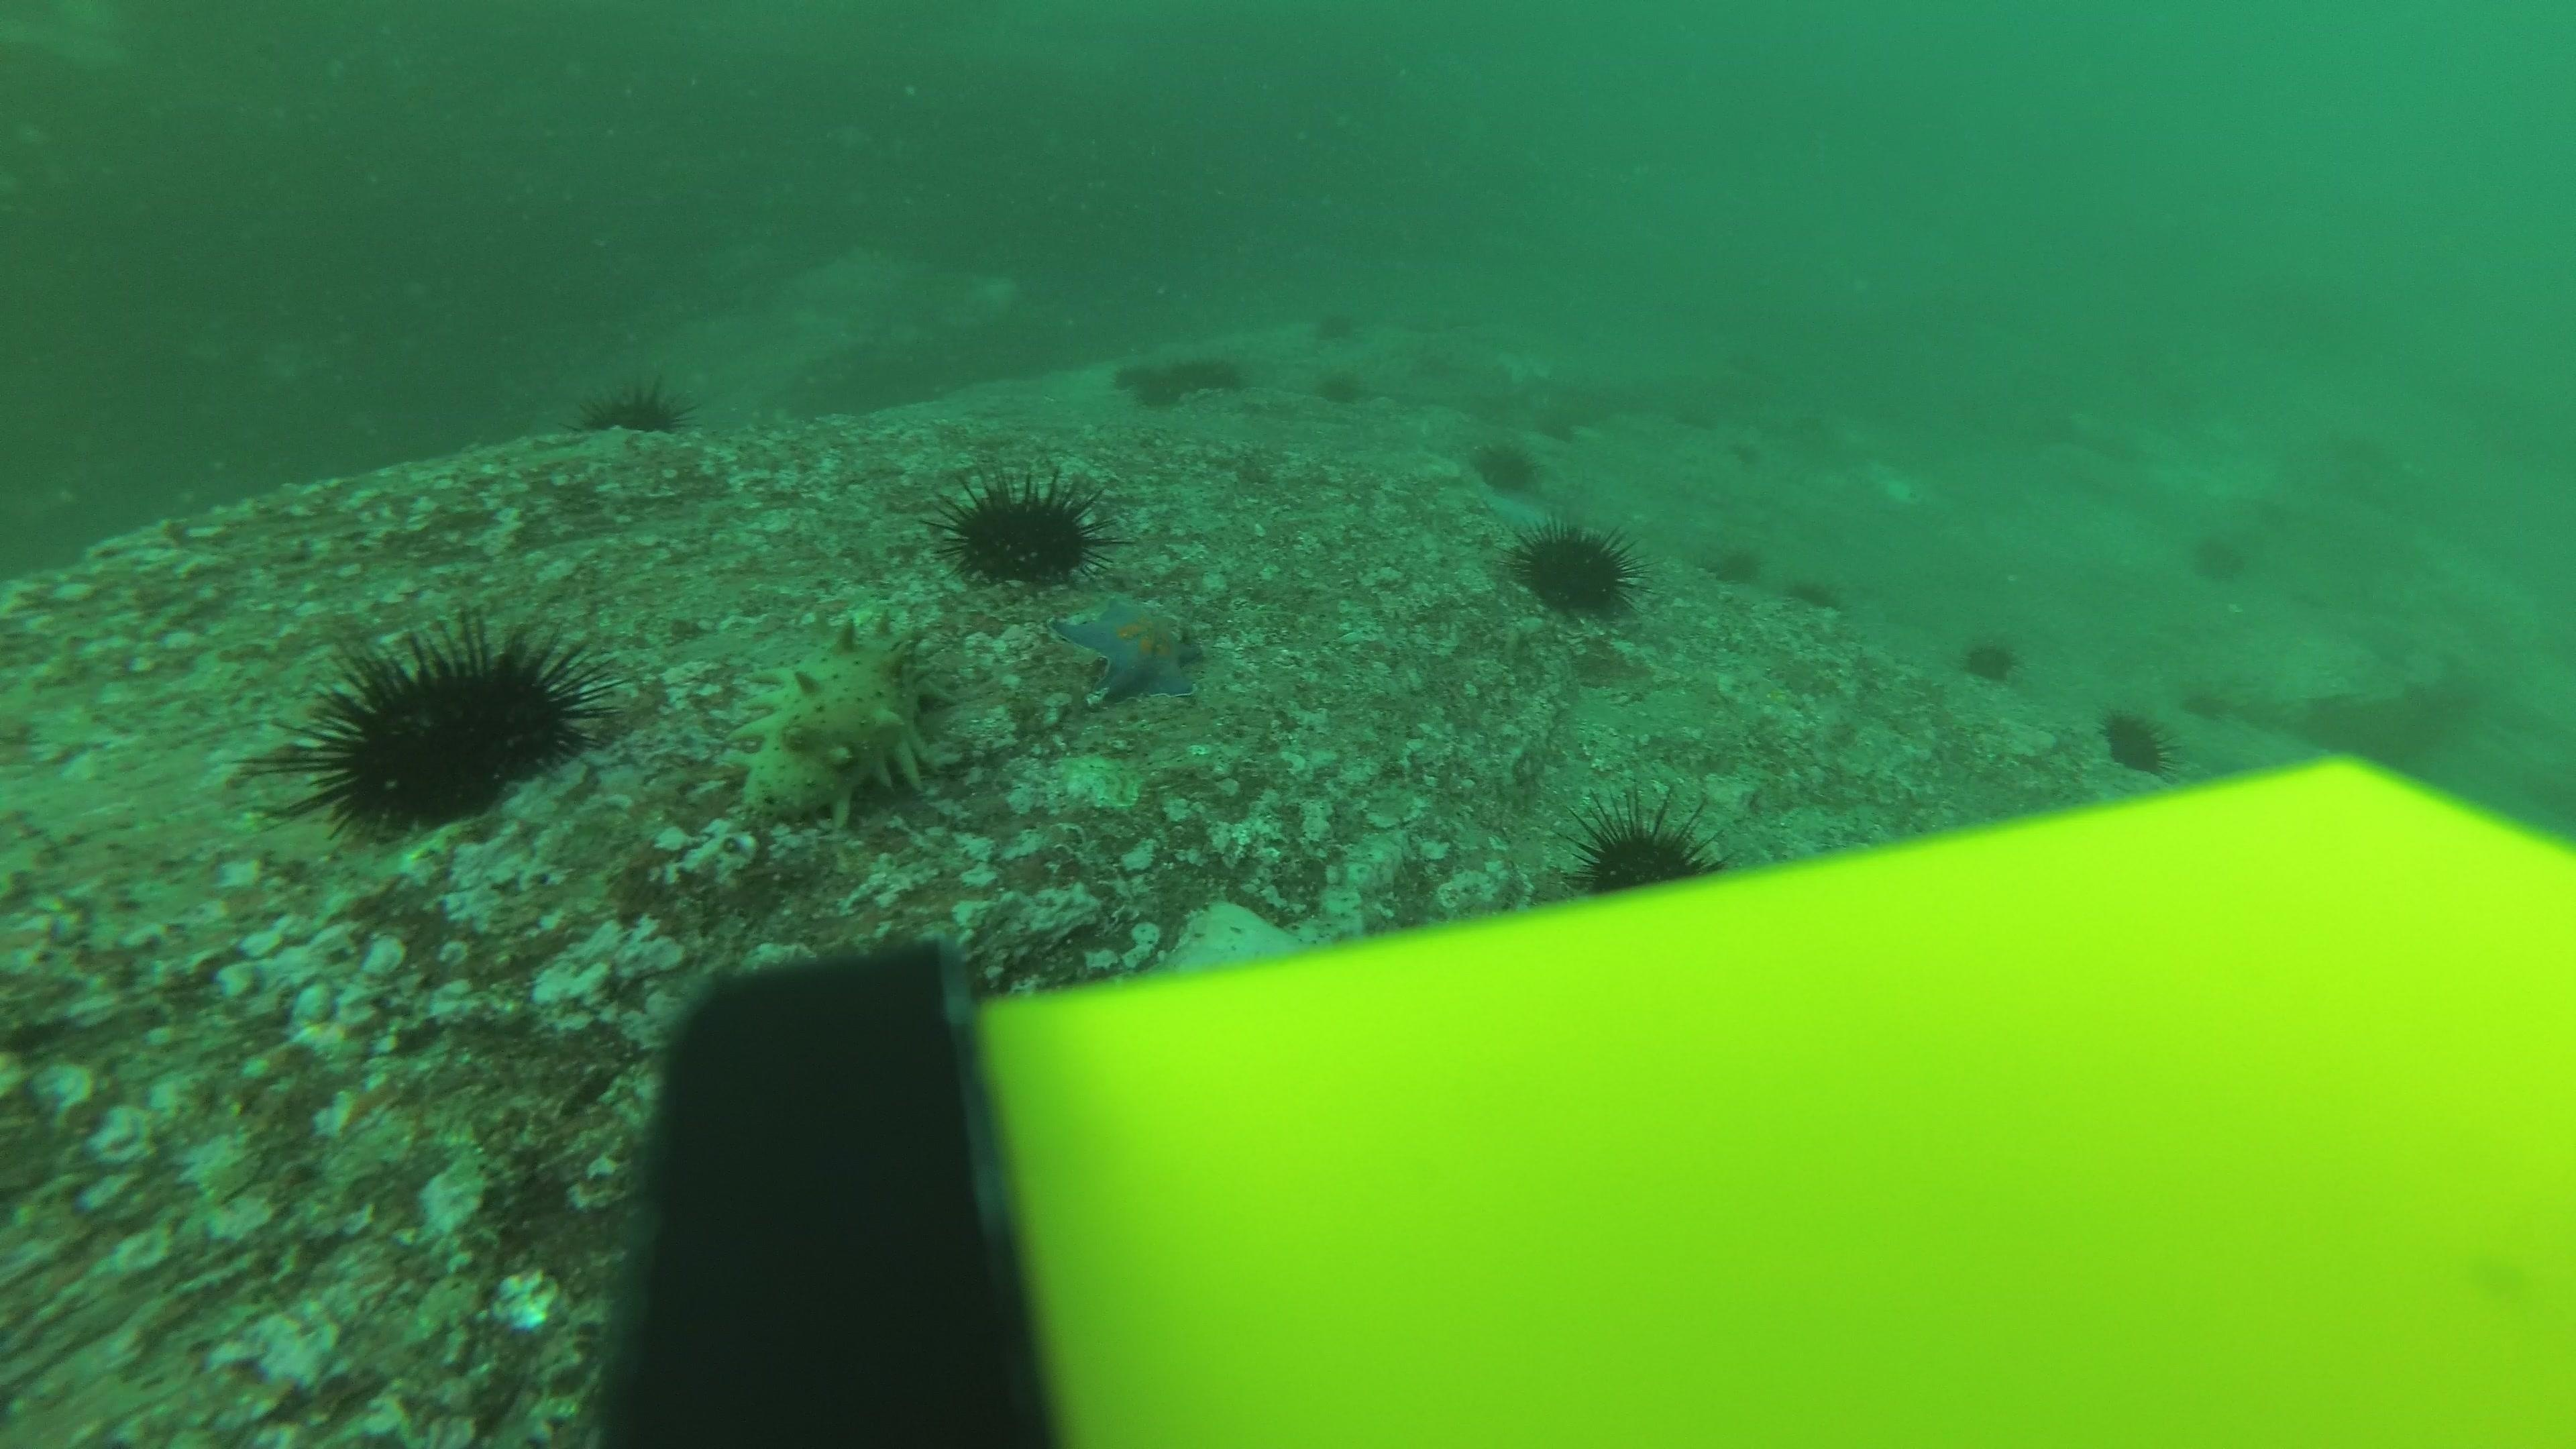echinus: (285, 612, 610, 840), (939, 472, 1100, 589), (1571, 800, 1714, 899), (1514, 518, 1638, 619), (586, 375, 685, 437), (2098, 704, 2176, 775), (2187, 522, 2254, 586), (1472, 433, 1541, 494), (1959, 628, 2020, 685), (1702, 538, 1764, 587), (1778, 563, 1840, 612), (1131, 370, 1185, 414), (1315, 364, 1369, 409), (1108, 359, 1148, 393), (1200, 357, 1240, 391), (1162, 361, 1203, 393), (1311, 311, 1352, 343), (1536, 410, 1576, 442)
holothurian: (725, 616, 955, 833)
starfish: (1053, 589, 1208, 708), (1472, 485, 1555, 536)
